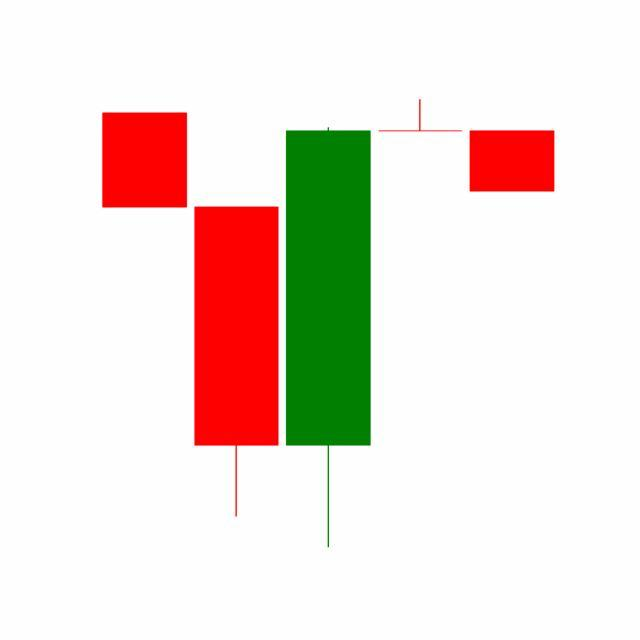Gravestone Doji: (374, 99, 468, 133)
